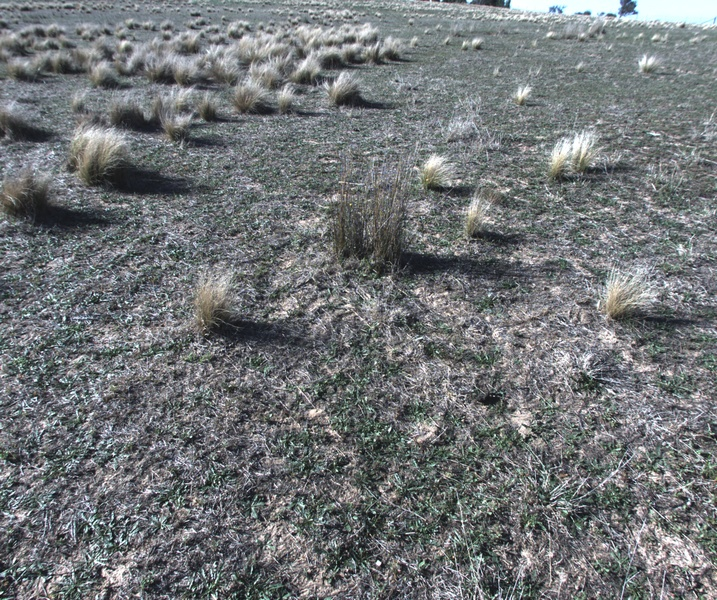st: (600, 257, 668, 321), (187, 270, 240, 340), (68, 127, 123, 192), (1, 176, 46, 218), (419, 149, 450, 192), (465, 192, 491, 240), (162, 108, 192, 147), (107, 99, 147, 127), (324, 70, 362, 99), (230, 83, 262, 117), (146, 55, 177, 90), (574, 133, 598, 176), (553, 135, 574, 184), (92, 56, 119, 89), (41, 51, 75, 75), (293, 57, 320, 83), (195, 93, 217, 123), (11, 64, 42, 85), (171, 82, 191, 107), (277, 92, 297, 114), (67, 92, 86, 114), (513, 81, 530, 104), (637, 56, 657, 74), (1, 102, 19, 121), (470, 34, 484, 53), (574, 57, 588, 73), (460, 43, 470, 59)
